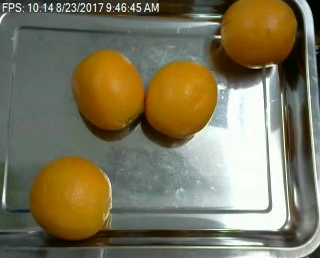Orange: (30, 156, 113, 239), (71, 47, 145, 131), (145, 58, 217, 137), (221, 1, 299, 69)
